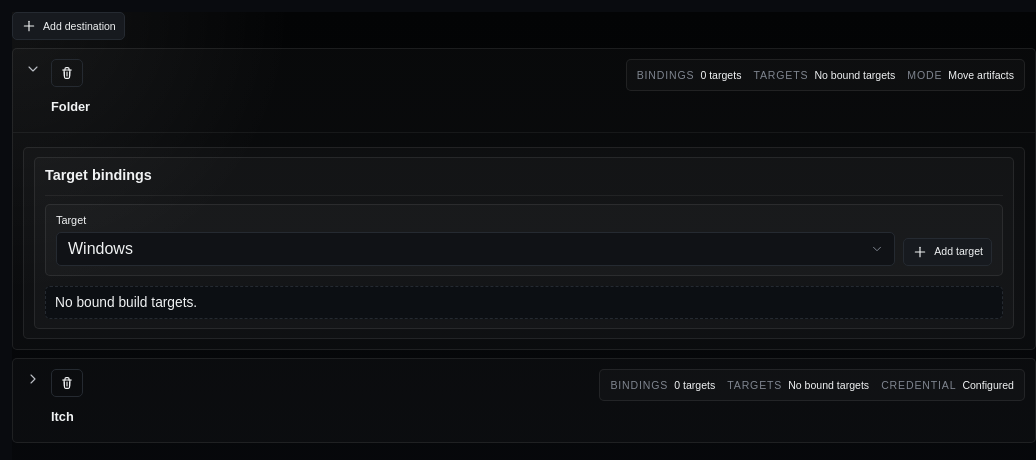
Test case: PublishDestinationsEditor interactions › shows both destination kinds as locked once they are already added
What coordinates should you click on to do the following:
click the button "Add destination"
I would click on:
 (68, 26)
Its box is x1=12 y1=12 x2=125 y2=40.
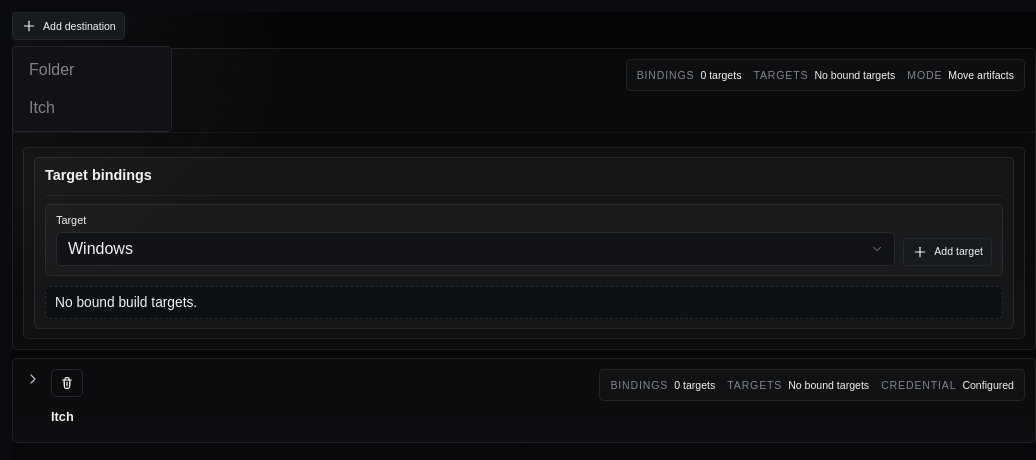
Expected: the button "Folder" is disabled, x1=19 y1=53 x2=165 y2=87
Expected: the button "Itch" is disabled, x1=19 y1=91 x2=165 y2=125
